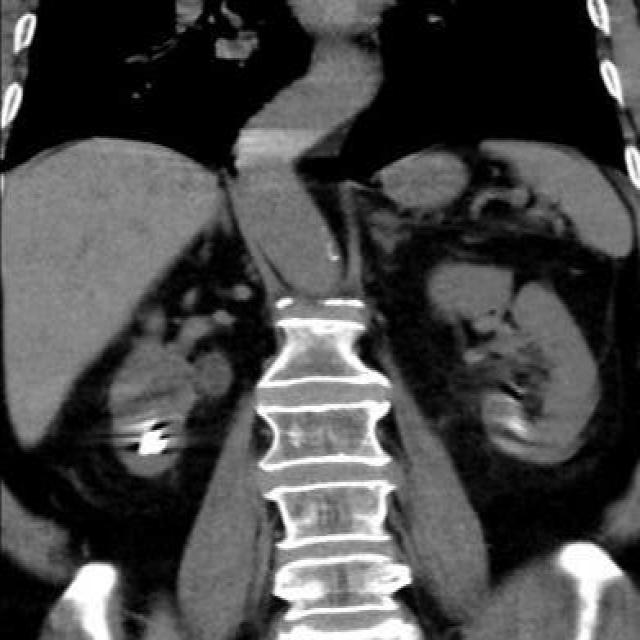Tas_Var: (135, 425, 176, 455), (146, 437, 168, 455)
